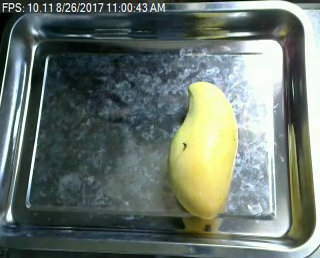Mango: (165, 79, 240, 222)
